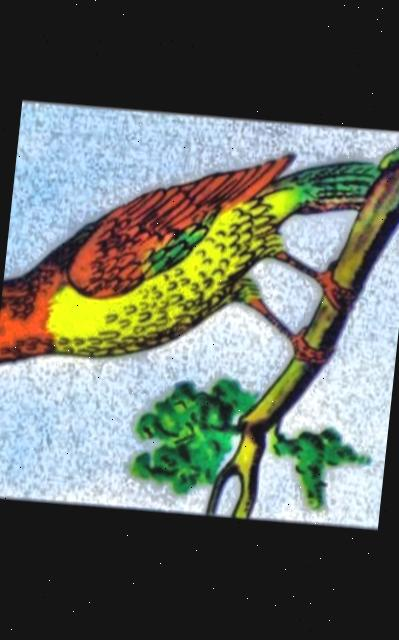El Pajaro: (0, 96, 399, 535)
